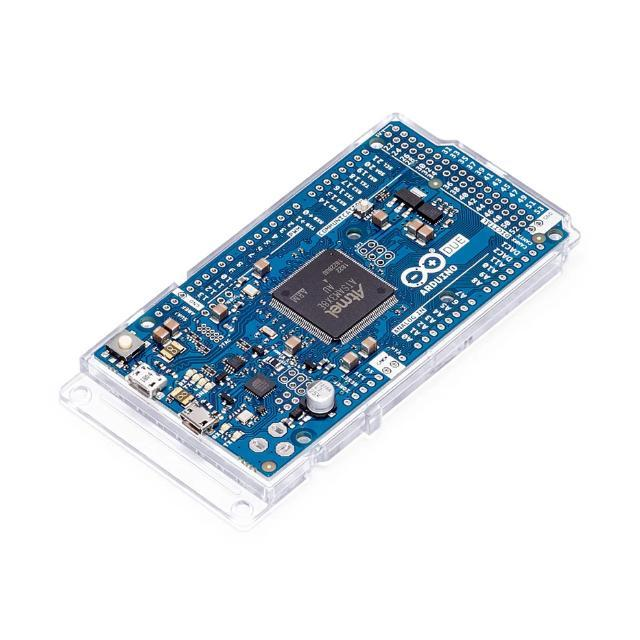Arduino-Due: (97, 120, 568, 476)
